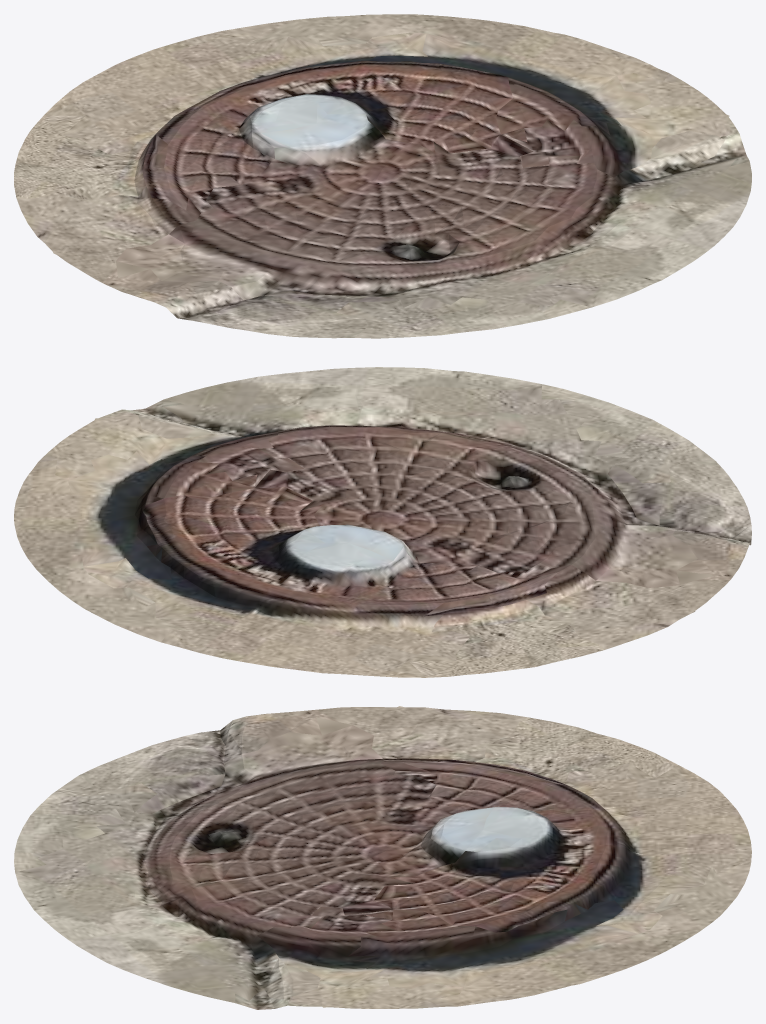
The model's file is mh_storm.glb.
The picture shows the model from 3 angles, top to bottom: view 1: azimuth 30°, elevation 25°; view 2: azimuth 150°, elevation 25°; view 3: azimuth 270°, elevation 25°; orthographic projection.
Parts seen in each view (by area): view 1: Mesh_0_w; view 2: Mesh_0_w; view 3: Mesh_0_w.
Boxes of the visible parts, left/top/right/bottom form: Mesh_0_w: left=14, top=14, right=751, bottom=338; Mesh_0_w: left=14, top=367, right=751, bottom=677; Mesh_0_w: left=14, top=706, right=751, bottom=1009.
Bounding box in the file's own units: 0.7808 × 0.0412 × 0.7793.
1 material, 1 textured.
